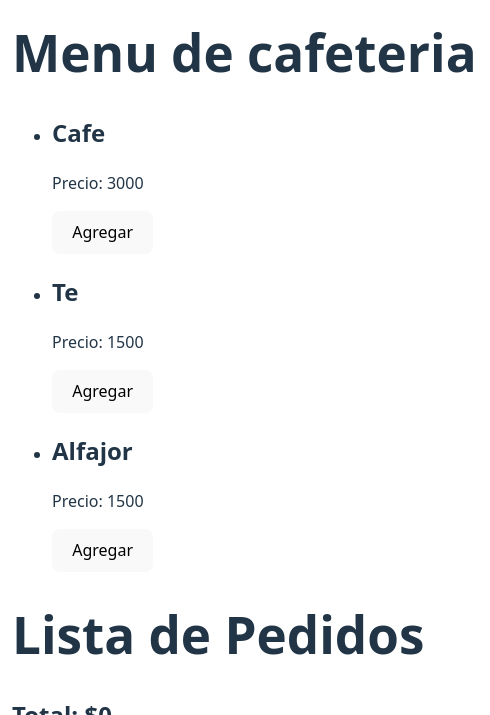
App Component › HU2 - agregar un item al pedido y verificar que aparece en el area de pedidos
Click the button "Agregar" below "3000": [103, 232] box [52, 211, 153, 254]
(page scrolled)
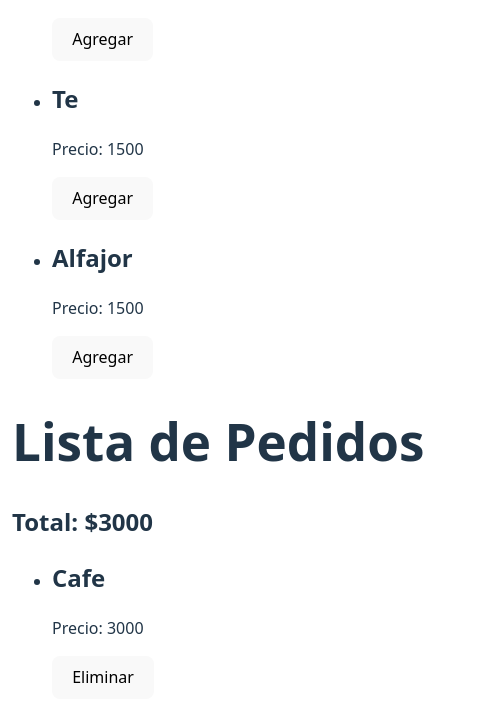
Expected: the list "Cafe Precio: 3000 Eliminar" is shown, [52, 561, 154, 699]
